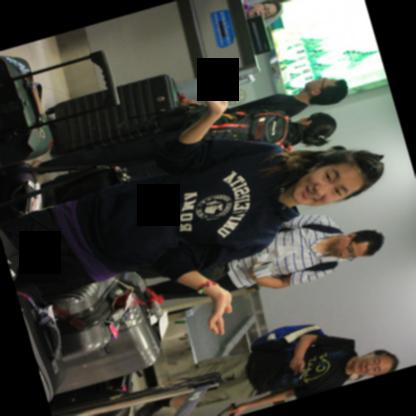backpack: (200, 111, 288, 148), (249, 325, 355, 352), (301, 224, 342, 271)
handbag: (0, 164, 129, 219), (127, 104, 206, 133), (251, 324, 324, 353)
suitcase: (56, 271, 171, 395), (0, 48, 117, 166), (44, 74, 183, 157), (43, 275, 137, 363), (14, 286, 68, 403), (41, 165, 122, 208), (0, 163, 42, 226), (50, 378, 112, 414)
